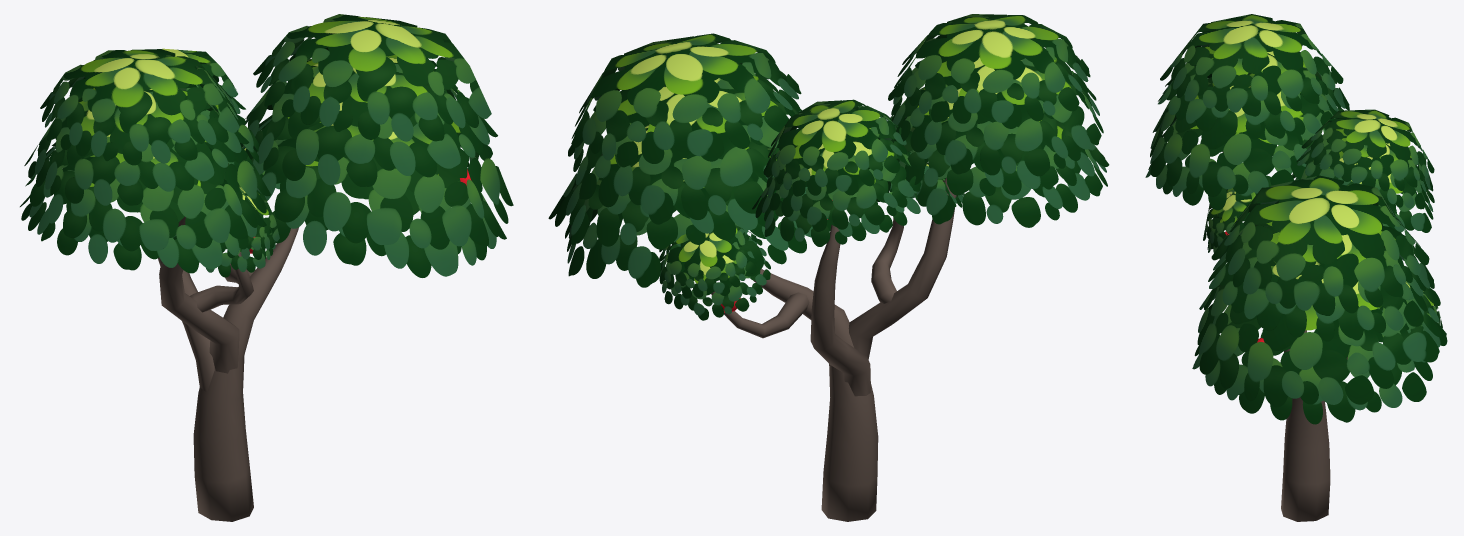
The model's file is AppleTree.fbx.
3 renders of one model, left to right at view 1: azimuth 30°, elevation 25°; view 2: azimuth 150°, elevation 25°; view 3: azimuth 270°, elevation 25°, orthographic. The views are drawn at different scales.
Parts seen in each view (by area): view 1: Leaf.004, Leaf, Leaf.006, Leaf.005, Leaf.002, Trunk.001, Leaf.001, Leaf.007, Leaf.003, Trunk2.001, Trnk.001, Trunk2.002 (+3 smaller); view 2: Leaf.004, Leaf, Leaf.005, Leaf.001, Leaf.008, Trunk.001, Leaf.006, Leaf.003, Leaf.009, Leaf.007, Leaf.002, Leaf.011 (+6 smaller); view 3: Leaf.004, Leaf.006, Leaf, Leaf.002, Leaf.005, Leaf.007, Leaf.008, Leaf.001, Trunk.001, Leaf.003, Leaf.009, Leaf.013 (+1 smaller).
Part boxes in pixels (x1,y1,x2,y2): Leaf.004: (253, 14, 491, 141); Leaf: (40, 49, 239, 165); Leaf.006: (242, 102, 513, 249); Leaf.005: (240, 54, 497, 186); Leaf.002: (25, 134, 271, 251); Trunk.001: (193, 227, 298, 521); Leaf.001: (24, 84, 249, 205); Leaf.007: (261, 124, 506, 277); Leaf.003: (20, 147, 266, 273); Trunk2.001: (159, 217, 239, 373); Trnk.001: (190, 252, 253, 312); Trunk2.002: (158, 257, 214, 392); Leaf.004: (571, 33, 801, 167); Leaf: (893, 14, 1090, 128); Leaf.005: (568, 74, 801, 224); Leaf.001: (888, 54, 1103, 176); Leaf.008: (765, 99, 907, 196); Trunk.001: (753, 268, 878, 521); Leaf.006: (548, 124, 807, 249); Leaf.003: (876, 117, 1107, 227); Leaf.009: (763, 128, 923, 231); Leaf.007: (565, 146, 831, 287); Leaf.002: (878, 87, 1109, 195); Leaf.011: (659, 225, 757, 298); Leaf.004: (1211, 175, 1429, 315); Leaf.006: (1197, 259, 1440, 407); Leaf: (1160, 14, 1343, 116); Leaf.002: (1150, 73, 1343, 196); Leaf.005: (1208, 221, 1434, 341); Leaf.007: (1192, 300, 1447, 424); Leaf.008: (1301, 109, 1434, 191); Leaf.001: (1158, 46, 1349, 139); Trunk.001: (1281, 397, 1330, 521); Leaf.003: (1145, 110, 1324, 210); Leaf.009: (1296, 129, 1433, 208); Leaf.013: (1203, 188, 1261, 247).
Size of the model in its own units: 333 by 519 by 538.
